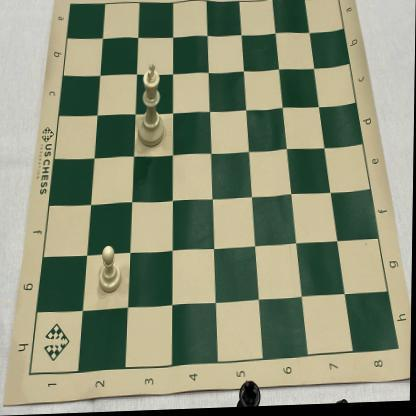white-king: (135, 60, 167, 151)
white-pawn: (95, 240, 126, 299)
